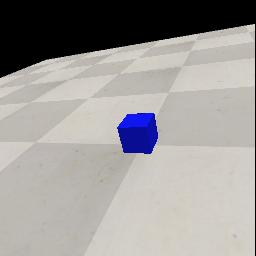box: (117, 113, 158, 154)
